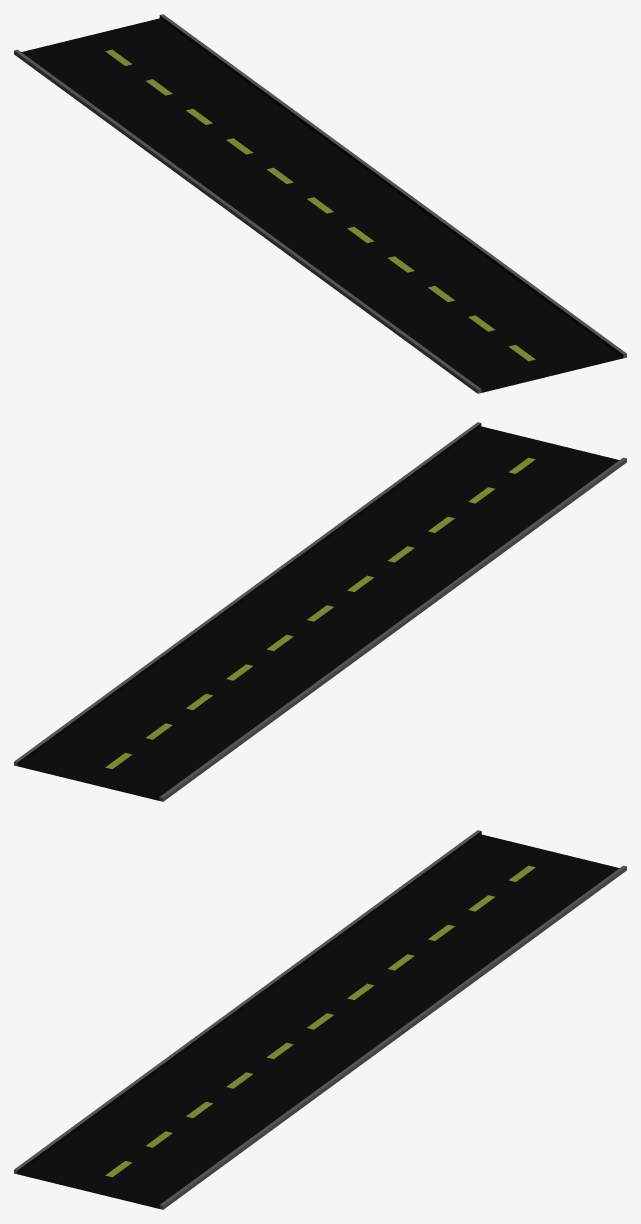
The model's file is Autopista.fbx.
3 renders of one model, top to bottom at view 1: azimuth 30°, elevation 25°; view 2: azimuth 150°, elevation 25°; view 3: azimuth 330°, elevation 25°, orthographic.
Parts seen in each view (by area): view 1: Box001; view 2: Box001; view 3: Box001.
Boxes of the visible parts, x1=… form: Box001: x1=14, y1=14, x2=626, y2=393; Box001: x1=14, y1=422, x2=626, y2=801; Box001: x1=14, y1=830, x2=626, y2=1209.
Bounding box in the file's own units: 1579 × 39.5 × 8500.
